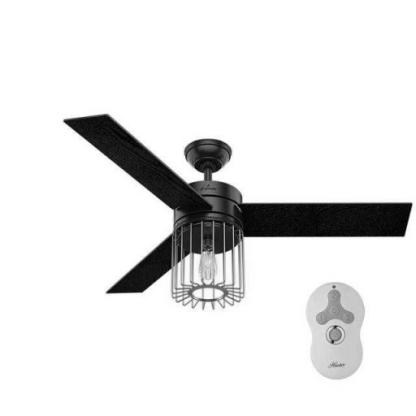ceiling-fan: (62, 112, 414, 310)
